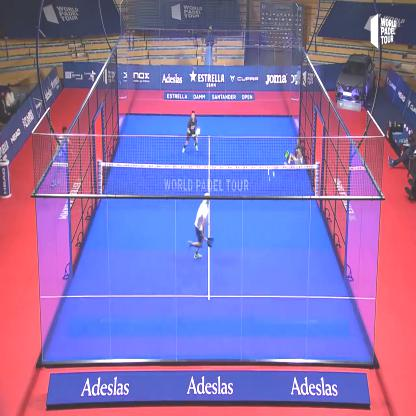ball: (269, 166, 278, 182)
